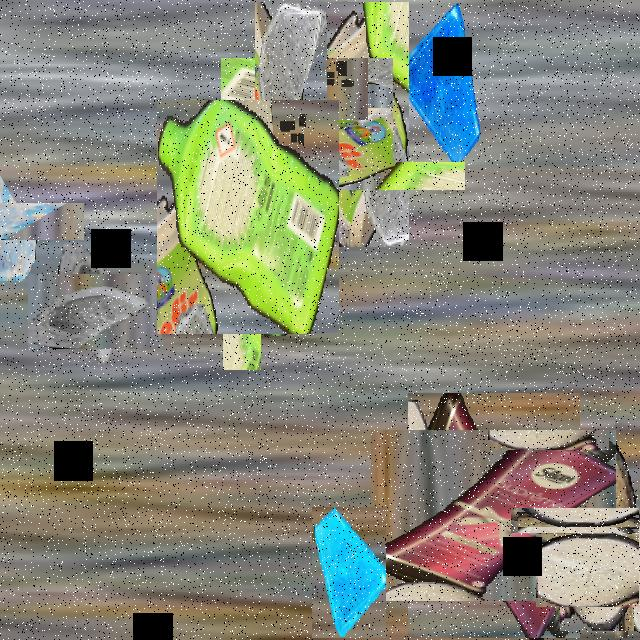glass: (393, 2, 483, 162), (42, 258, 148, 364), (312, 507, 386, 638), (255, 2, 327, 130), (0, 179, 60, 264)
plastic: (390, 411, 598, 620), (157, 100, 339, 334), (249, 30, 437, 219)
wood: (562, 456, 640, 585), (548, 521, 640, 619), (200, 262, 284, 346)
